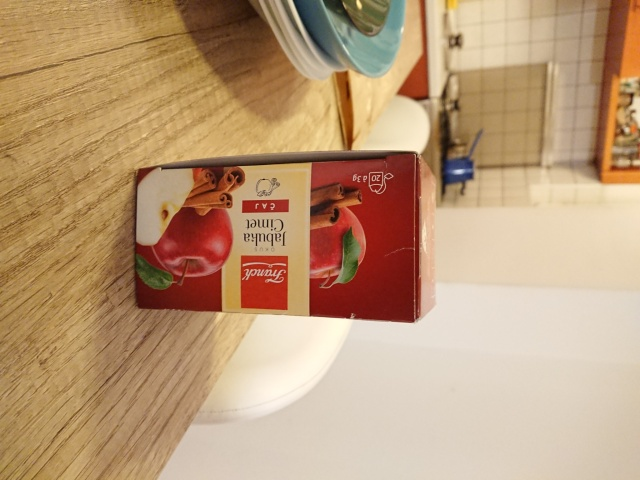Franck Apple Cinnamon Tea 60g: (131, 147, 439, 326)
